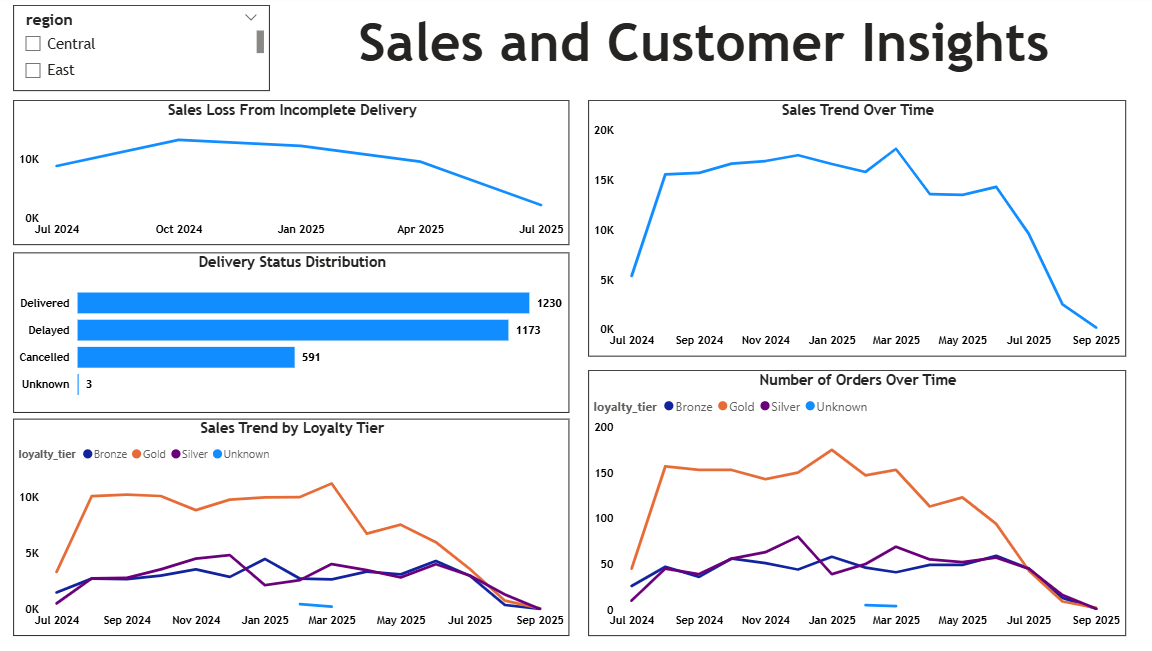

The page's visual inventory and layout, read from the dashboard file:
{"tool":"powerbi","page":{"name":"Page 1","canvas":[1280,720],"ordinal":0},"visuals":[{"type":"lineChart","title":"Sales Trend Over Time","fields":{"Y":["Sales_data.sales"],"Category":["Sales_data.order_date.Variation.Date Hierarchy.Year","Sales_data.order_date.Variation.Date Hierarchy.Quarter","Sales_data.order_date.Variation.Date Hierarchy.Month"]},"box":[660,115.3,590.1,281.3],"z":0},{"type":"slicer","fields":{"Values":["Sales_data.transaction region"]},"box":[28.8,11,281.3,94.7],"z":1000},{"type":"textbox","box":[333.4,12.3,907,81],"z":2000},{"type":"lineChart","title":"Sales Loss From Incomplete Delivery","fields":{"Category":["Sales_data.order_date.Variation.Date Hierarchy.Year","Sales_data.order_date.Variation.Date Hierarchy.Quarter","Sales_data.order_date.Variation.Date Hierarchy.Month"],"Y":["Sales_data.sales from incomplete delivery"]},"box":[28.8,115.3,610.6,159.2],"z":4000},{"type":"lineChart","title":"Sales Trend by Loyalty Tier","fields":{"Y":["Sales_data.sales from complete delivery"],"Series":["customer_info.loyalty_tier"],"Category":["Sales_data.order_date.Variation.Date Hierarchy.Year","Sales_data.order_date.Variation.Date Hierarchy.Quarter","Sales_data.order_date.Variation.Date Hierarchy.Month"]},"box":[28.8,465.2,610.6,238.8],"z":5000},{"type":"clusteredBarChart","title":"Delivery Status Distribution","fields":{"Category":["Sales_data.delivery_status"],"Y":["CountNonNull(Sales_data.delivery_status)"]},"box":[28.8,282.7,610.6,175.6],"z":6000},{"type":"lineChart","title":"Number of Orders Over Time","fields":{"Category":["Sales_data.order_date.Variation.Date Hierarchy.Year","Sales_data.order_date.Variation.Date Hierarchy.Quarter","Sales_data.order_date.Variation.Date Hierarchy.Month"],"Y":["CountNonNull(Sales_data.delivery_status)"],"Series":["customer_info.loyalty_tier"]},"box":[660,411.7,590.1,292.3],"z":7000}]}

Visuals, with their boxes in screenshot pixels (x1, y1, x2, y2), scaled from the page's 1280x720 canvas onto the 1152x651 screenshot:
"Sales Trend Over Time" lineChart: left=594, top=104, right=1125, bottom=359
slicer - Sales_data.transaction region: left=26, top=10, right=279, bottom=96
textbox: left=300, top=11, right=1116, bottom=84
"Sales Loss From Incomplete Delivery" lineChart: left=26, top=104, right=575, bottom=248
"Sales Trend by Loyalty Tier" lineChart: left=26, top=421, right=575, bottom=637
"Delivery Status Distribution" clusteredBarChart: left=26, top=256, right=575, bottom=414
"Number of Orders Over Time" lineChart: left=594, top=372, right=1125, bottom=637
